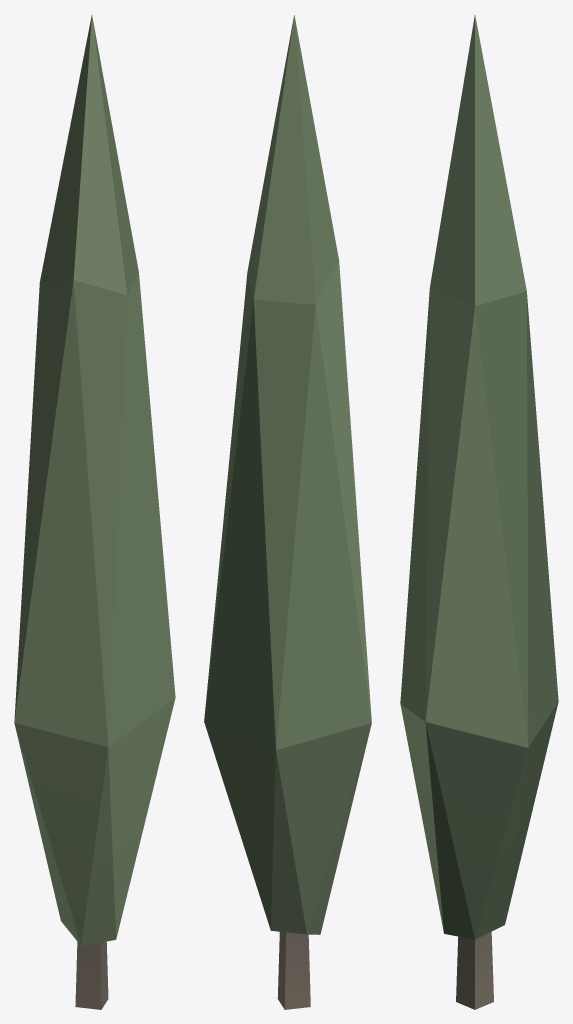
Rendered from cypress.lod2.glb.
3 renders of one model, left to right at view 1: azimuth 30°, elevation 25°; view 2: azimuth 150°, elevation 25°; view 3: azimuth 270°, elevation 25°, orthographic.
Bounding box in the file's own units: 1.19 × 8 × 1.16.
